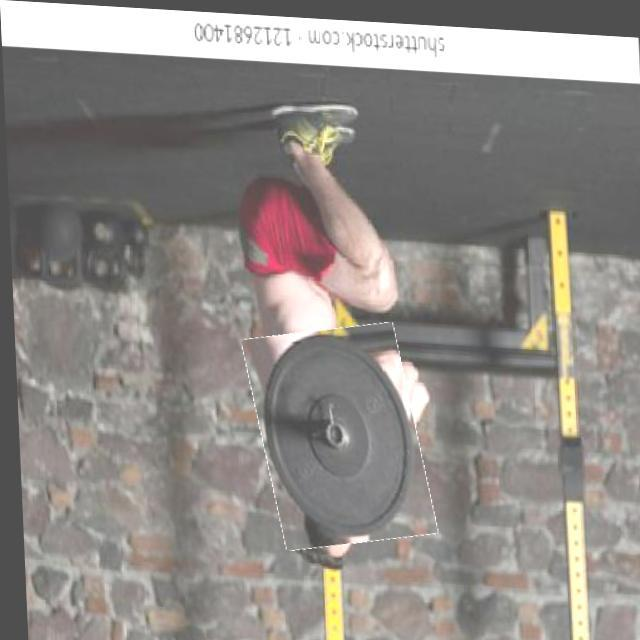barbell: (247, 317, 427, 549)
